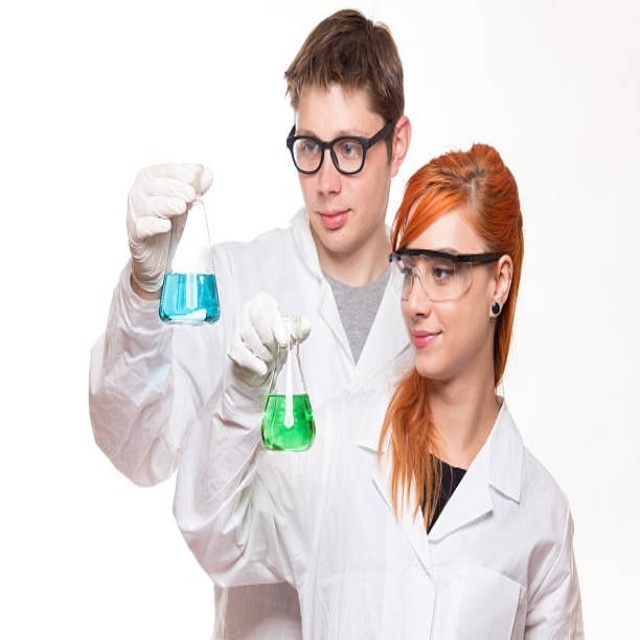Gafas: (288, 120, 394, 175), (389, 249, 500, 301)
Guantes: (126, 160, 213, 291), (227, 291, 311, 392)
Sin_mascara: (406, 317, 452, 372), (308, 199, 359, 243)
